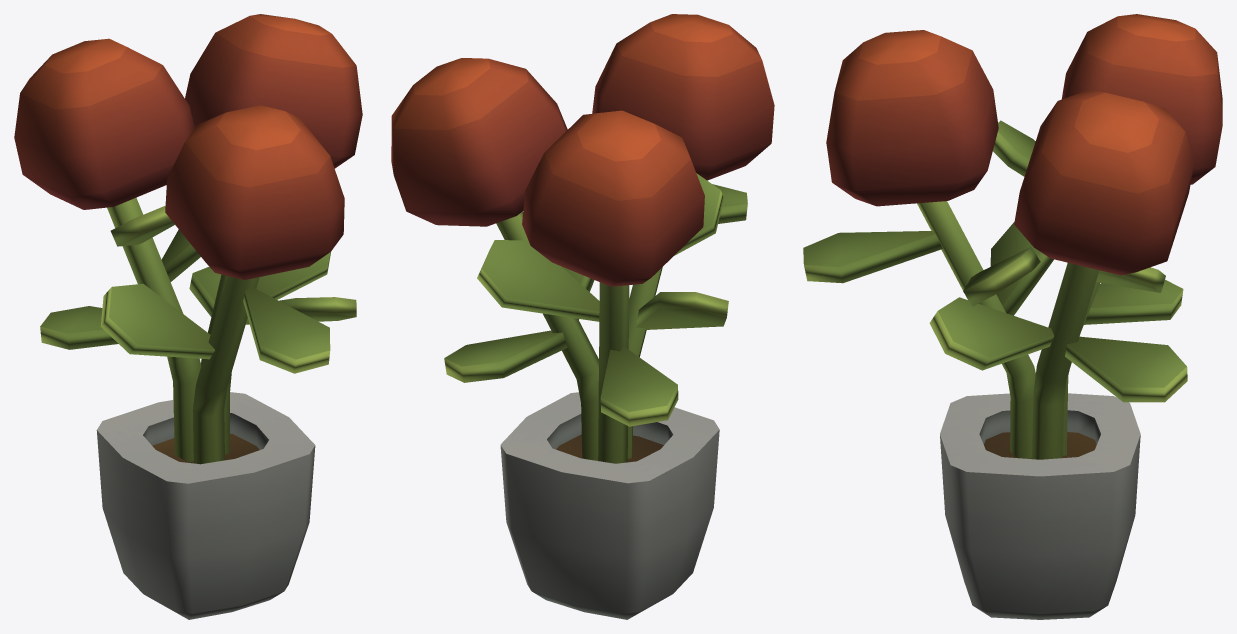
File: flower_bunch_2_red_pot.fbx
3 renders of one model, left to right at view 1: azimuth 30°, elevation 25°; view 2: azimuth 150°, elevation 25°; view 3: azimuth 270°, elevation 25°, orthographic. The views are drawn at different scales.
Visible parts, largest first — view 1: flower_bunch_2_red_pot; view 2: flower_bunch_2_red_pot; view 3: flower_bunch_2_red_pot.
Boxes of the visible parts, x1=… form: flower_bunch_2_red_pot: x1=14, y1=14, x2=362, y2=619; flower_bunch_2_red_pot: x1=391, y1=14, x2=774, y2=619; flower_bunch_2_red_pot: x1=803, y1=14, x2=1222, y2=619.
Size of the model in its own units: 74.13 by 127 by 88.24.
